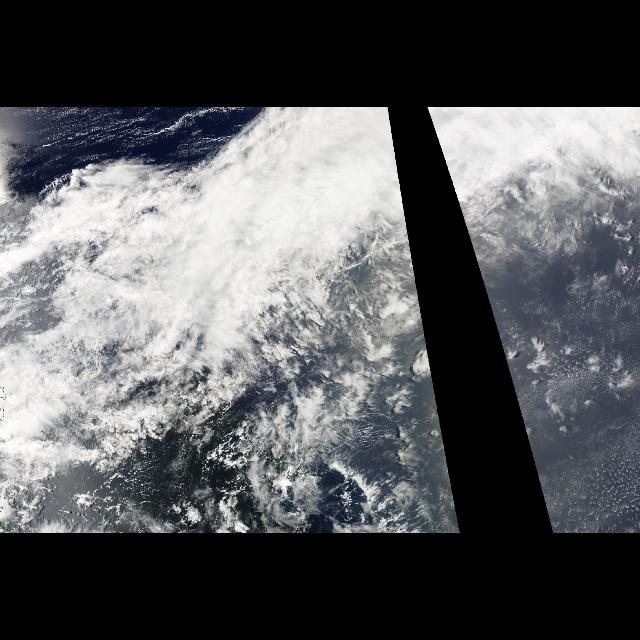Gravel: (74, 462, 192, 534)
Sugar: (544, 443, 640, 525)
